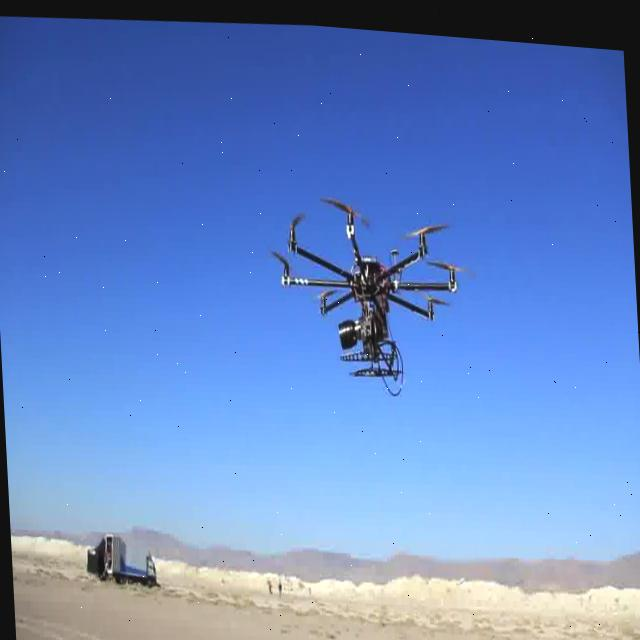drone: (8, 458, 640, 640)
